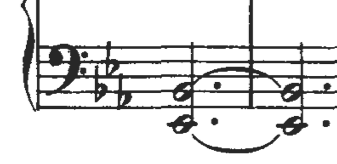bass_clef: (43, 35, 91, 102)
flat: (102, 37, 126, 84), (89, 64, 110, 107), (114, 72, 135, 112)
